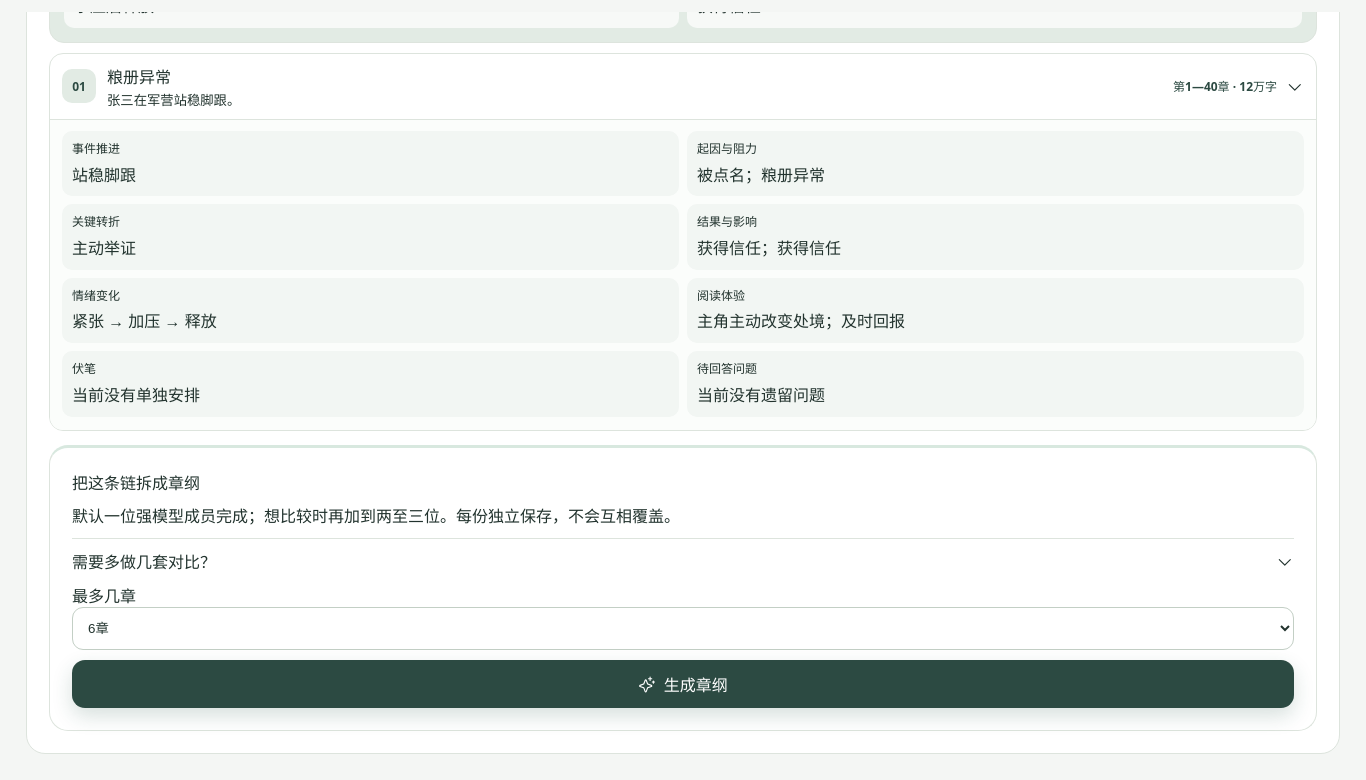
V7卷链章创作工作台 › 章纲默认一案并沿用固定策划编剧池，不依赖重复的章纲临时身份
The width and height of the screenshot is (1366, 780).
(page scrolled)
Click the heading "需要多做几套对比？" at (144, 562), box [72, 549, 1294, 573]
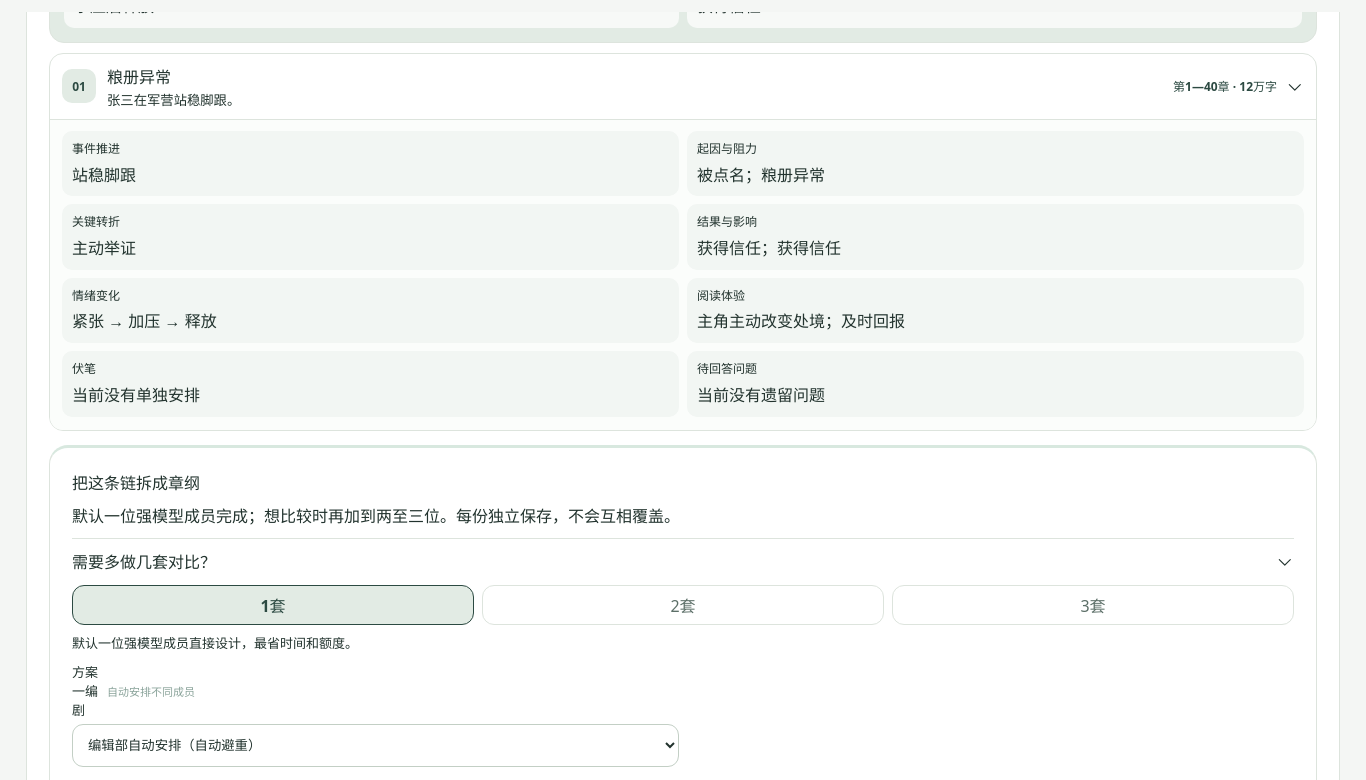
Expected: the text "方案一编剧" is shown, [72, 662, 100, 719]
